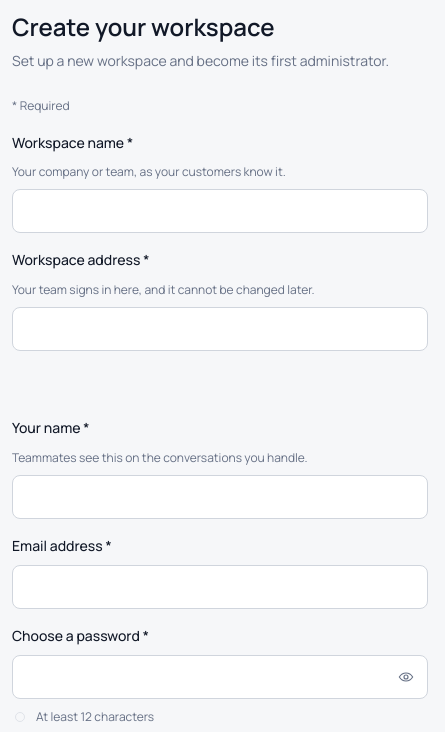
Test case: SignupForm › shows the address it is about to create, on the host it was served from
Type "northwind" into the field labelled "Workspace address *" at {"x": 220, "y": 329}, box left=12, top=307, right=428, bottom=351
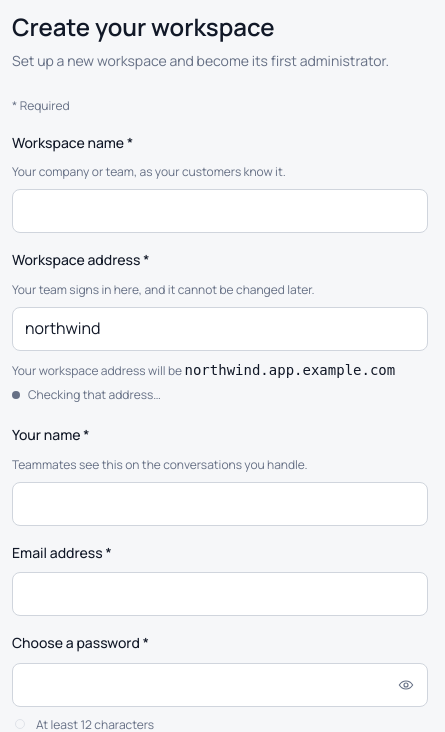
Expected: the text "northwind.app.example.com" is shown, left=184, top=362, right=395, bottom=378
